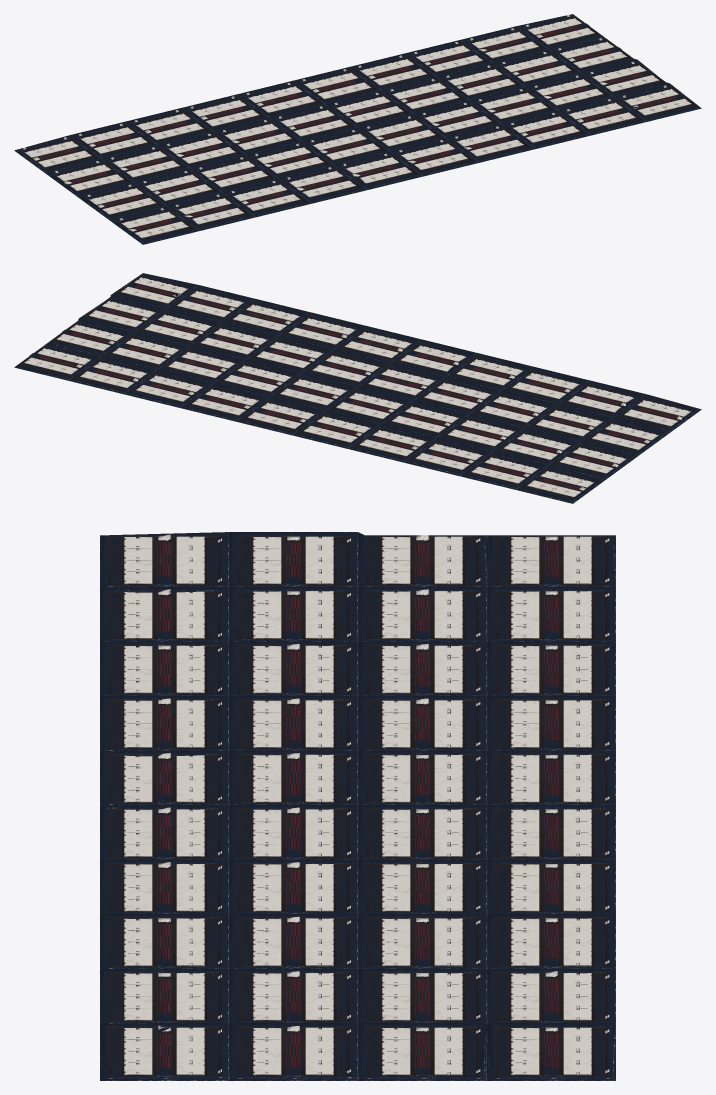
Rendered from floor-panel.glb.
The picture shows the model from 3 angles, top to bottom: view 1: azimuth 30°, elevation 25°; view 2: azimuth 150°, elevation 25°; view 3: azimuth 270°, elevation 25°; orthographic projection. The views are drawn at different scales.
Visible parts, largest first — view 1: SciFi_Floor_Panel01_low_M_Walkway_SP_0; view 2: SciFi_Floor_Panel01_low_M_Walkway_SP_0; view 3: SciFi_Floor_Panel01_low_M_Walkway_SP_0.
Part boxes in pixels (bbox=[...]): SciFi_Floor_Panel01_low_M_Walkway_SP_0: bbox=[14, 14, 701, 244]; SciFi_Floor_Panel01_low_M_Walkway_SP_0: bbox=[14, 273, 701, 503]; SciFi_Floor_Panel01_low_M_Walkway_SP_0: bbox=[100, 532, 615, 1080].
Size of the model in its own units: 20 by 0.0806 by 8.
1 material, 1 textured.
